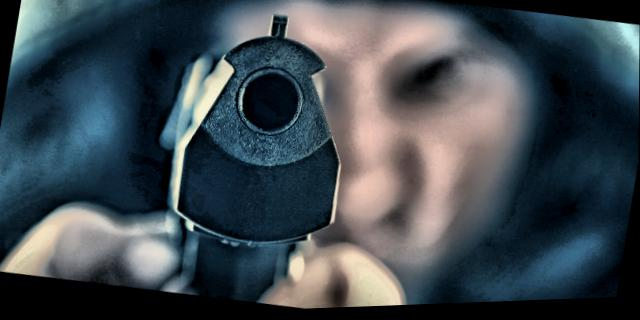pistol: (151, 0, 364, 316)
